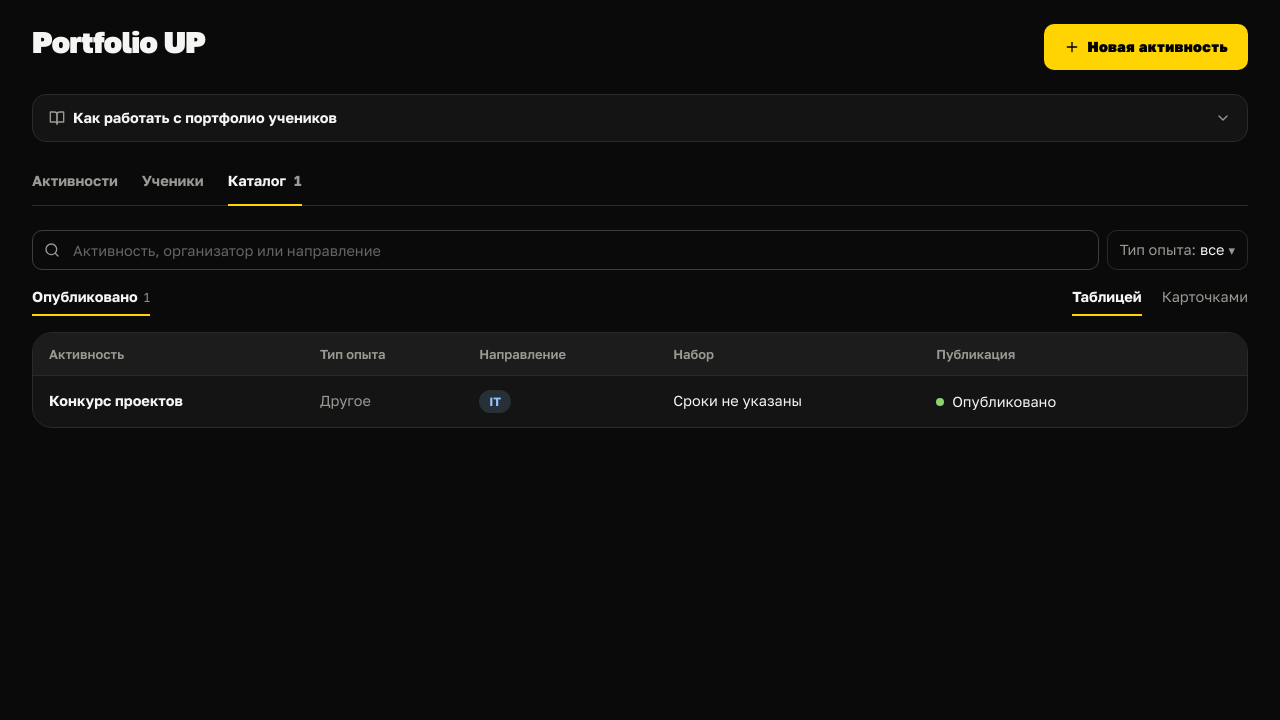
it: ментор видит карточки и открывает превью без назначения ученику
What coordinates should you click on to do the following:
click the button "Карточками"
I would click on:
 (1205, 301)
Its box is [1162,286,1248,316].
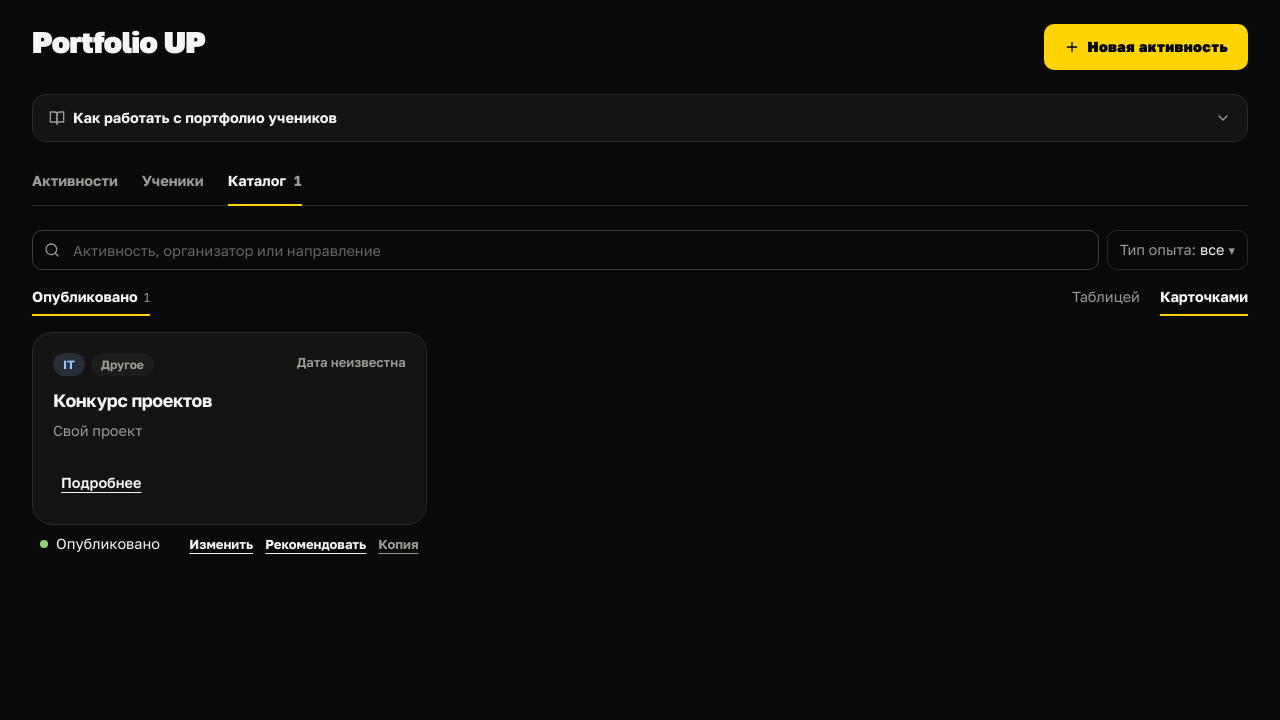
What coordinates should you click on to do the following:
click the button "Подробнее"
I would click on:
 (101, 483)
Its box is [53,462,149,504].
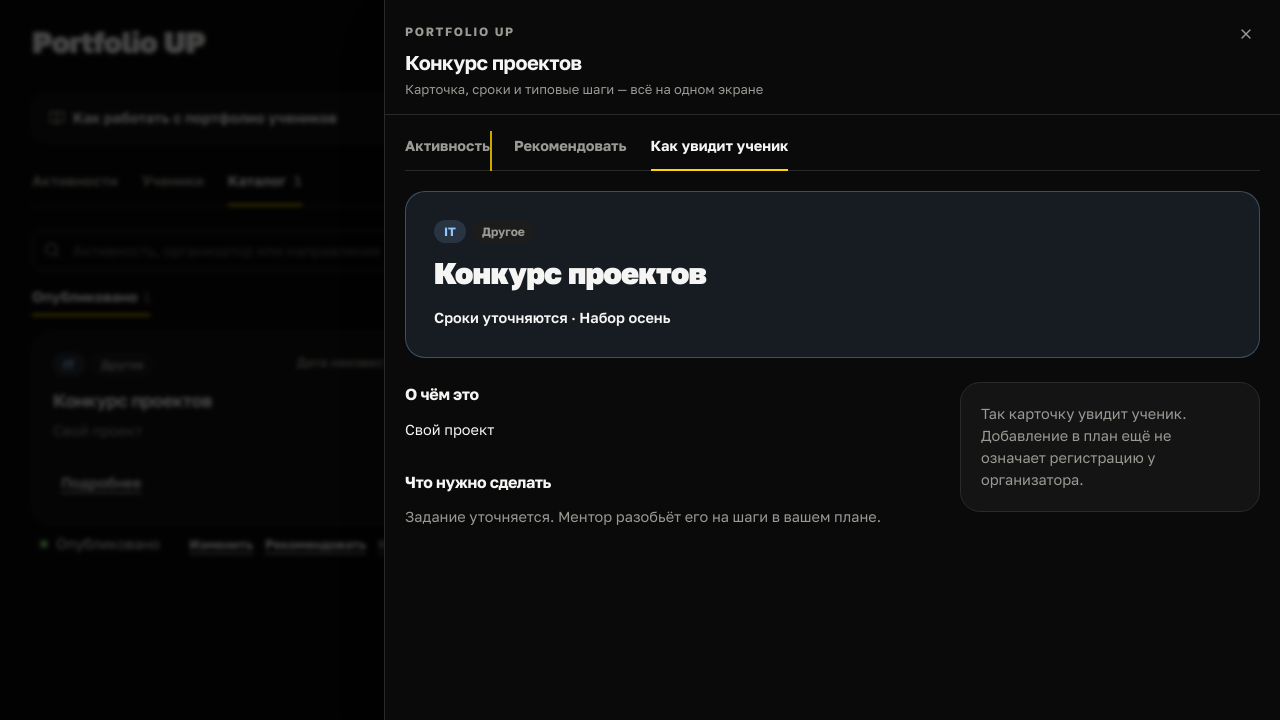
Now the heading "Что нужно сделать" is shown, box [405,472,551,492]
